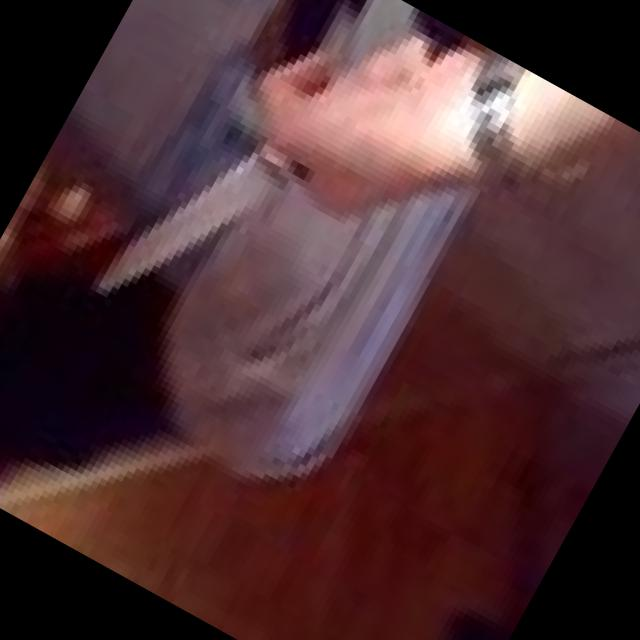knife: (58, 80, 326, 376)
